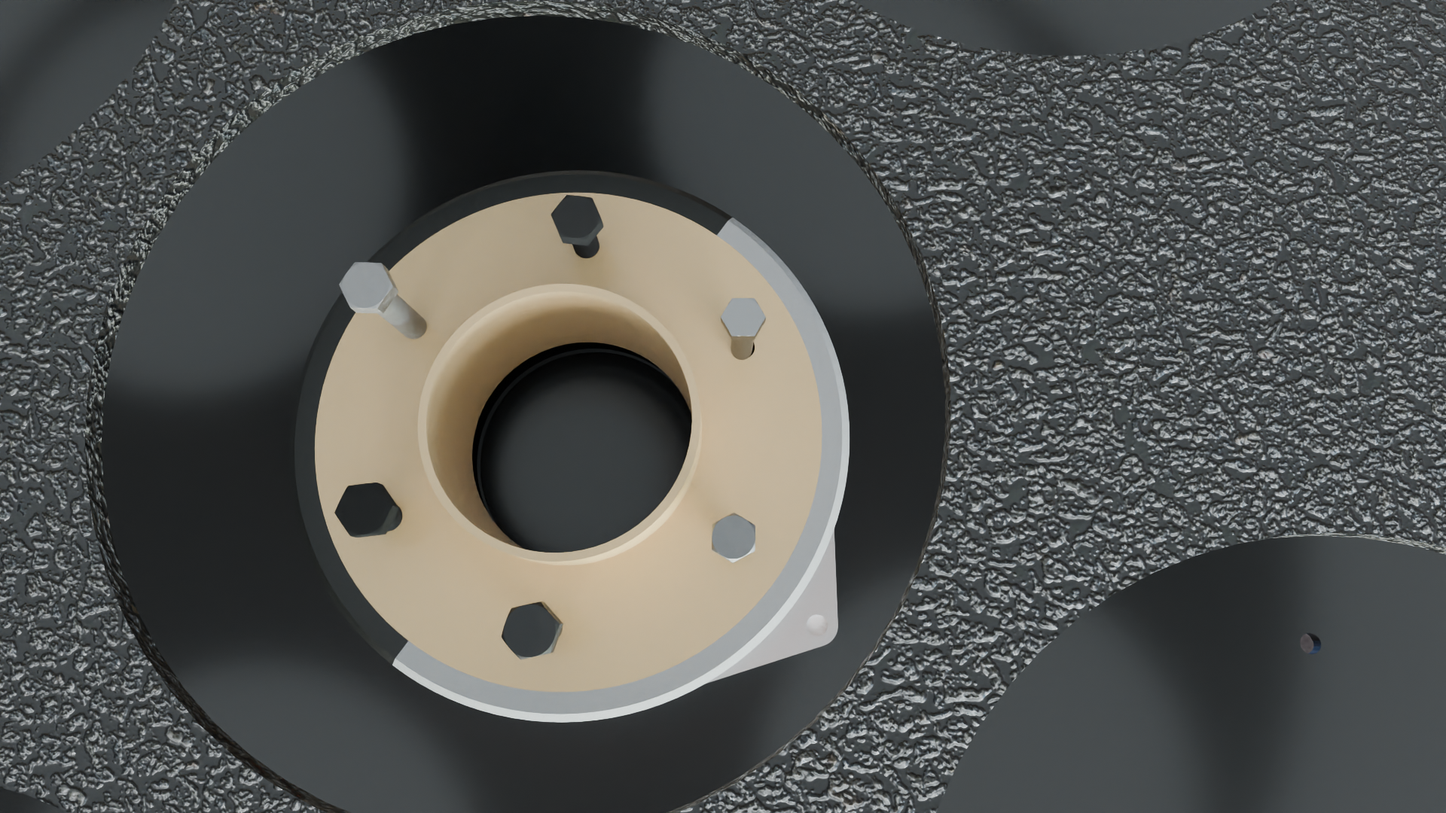bolt: (502, 601, 560, 660), (334, 483, 392, 536), (339, 262, 393, 309), (551, 195, 602, 240), (712, 513, 755, 562), (721, 298, 766, 336)
